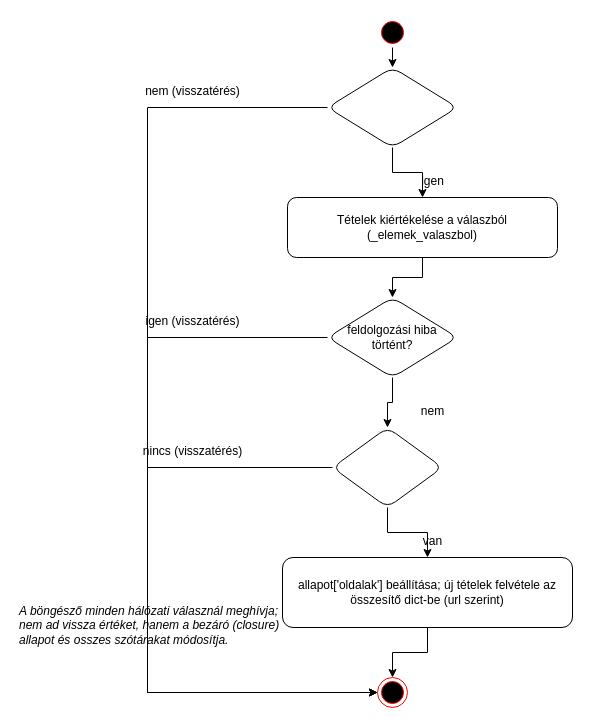
Some shapes in this 590 by 725 pixel diagram are drawn without their labels. Each missing label, with the box of its shape:
$risearch az URL-ben?: (326, 66, 458, 148)
van tétel?: (332, 426, 442, 508)
